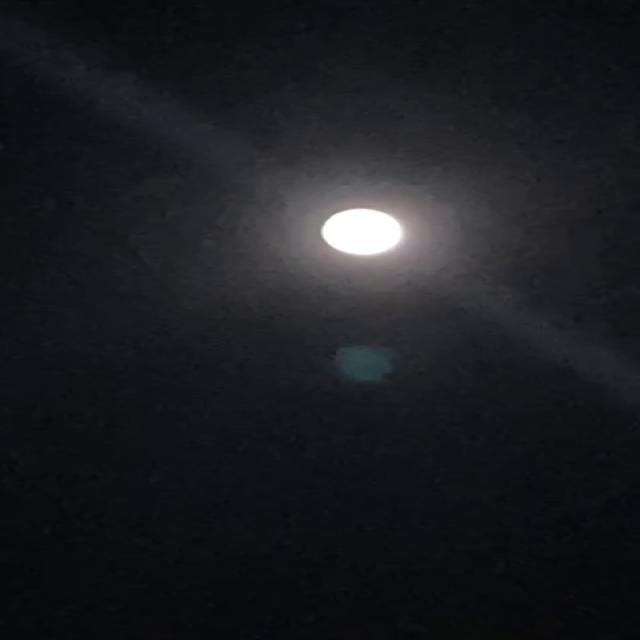moon: (310, 196, 414, 252)
